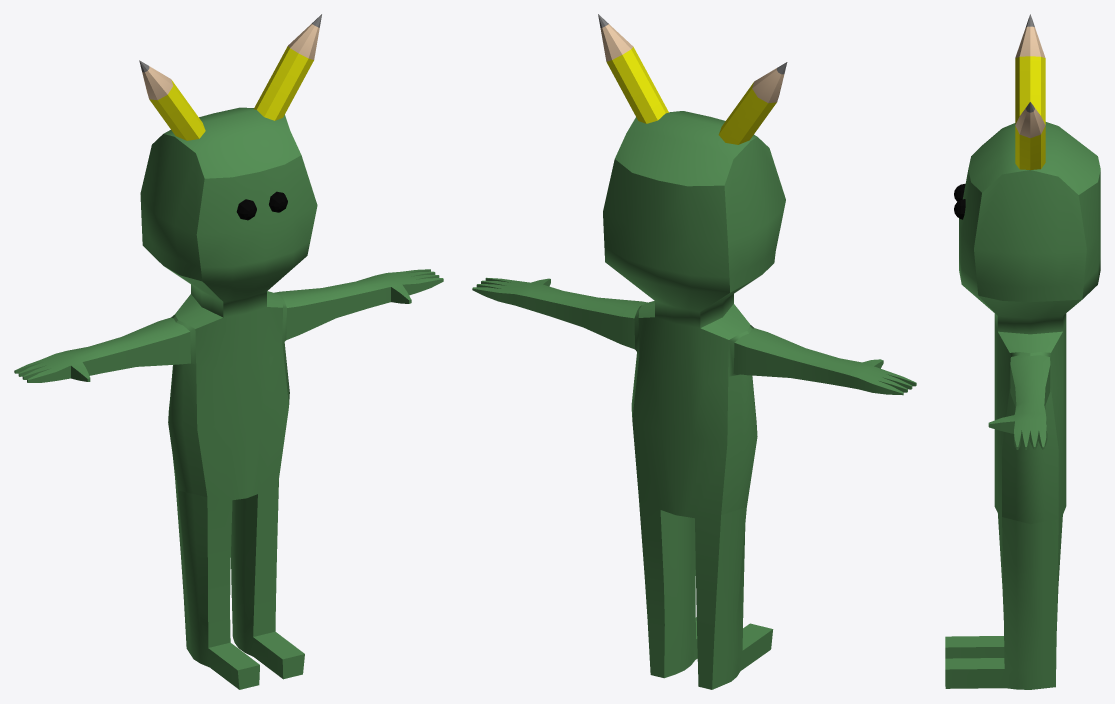
File: Alien.fbx
3 views of the same model, side by side, from view 1: azimuth 30°, elevation 25°; view 2: azimuth 150°, elevation 25°; view 3: azimuth 270°, elevation 25° (orthographic). The views are drawn at different scales.
Parts seen in each view (by area): view 1: pSphere7; view 2: pSphere7; view 3: pSphere7.
Part boxes in pixels (x1=…): pSphere7: x1=14, y1=14, x2=443, y2=689; pSphere7: x1=472, y1=14, x2=916, y2=689; pSphere7: x1=945, y1=14, x2=1100, y2=689.
Size of the model in its own units: 20.31 by 28.69 by 6.55.
